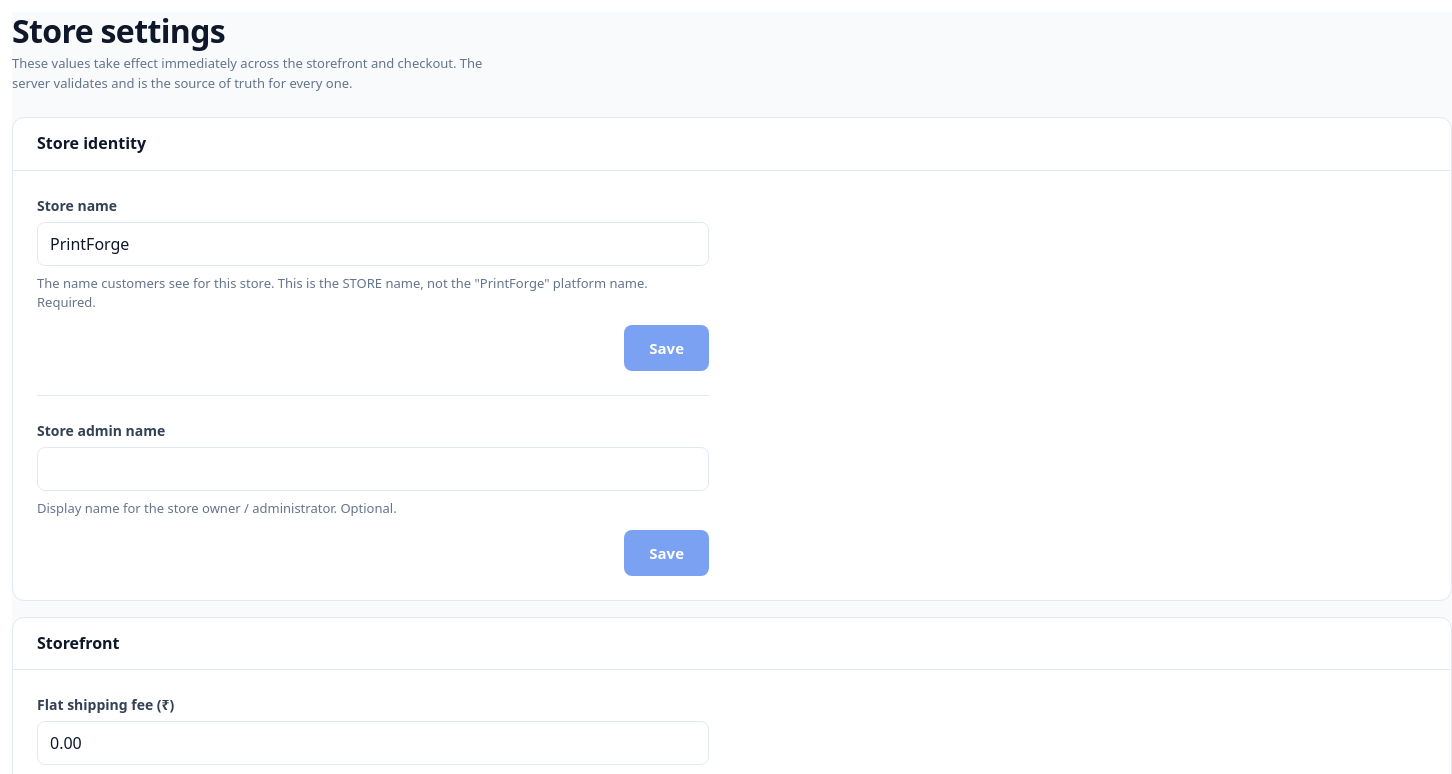
AdminSettingsPage › edits and saves the store name, showing a real "Saved" confirmation
Replace the text in the field labelled "Store name" with "Atharva Prints" at (373,244), box [37, 222, 709, 266]
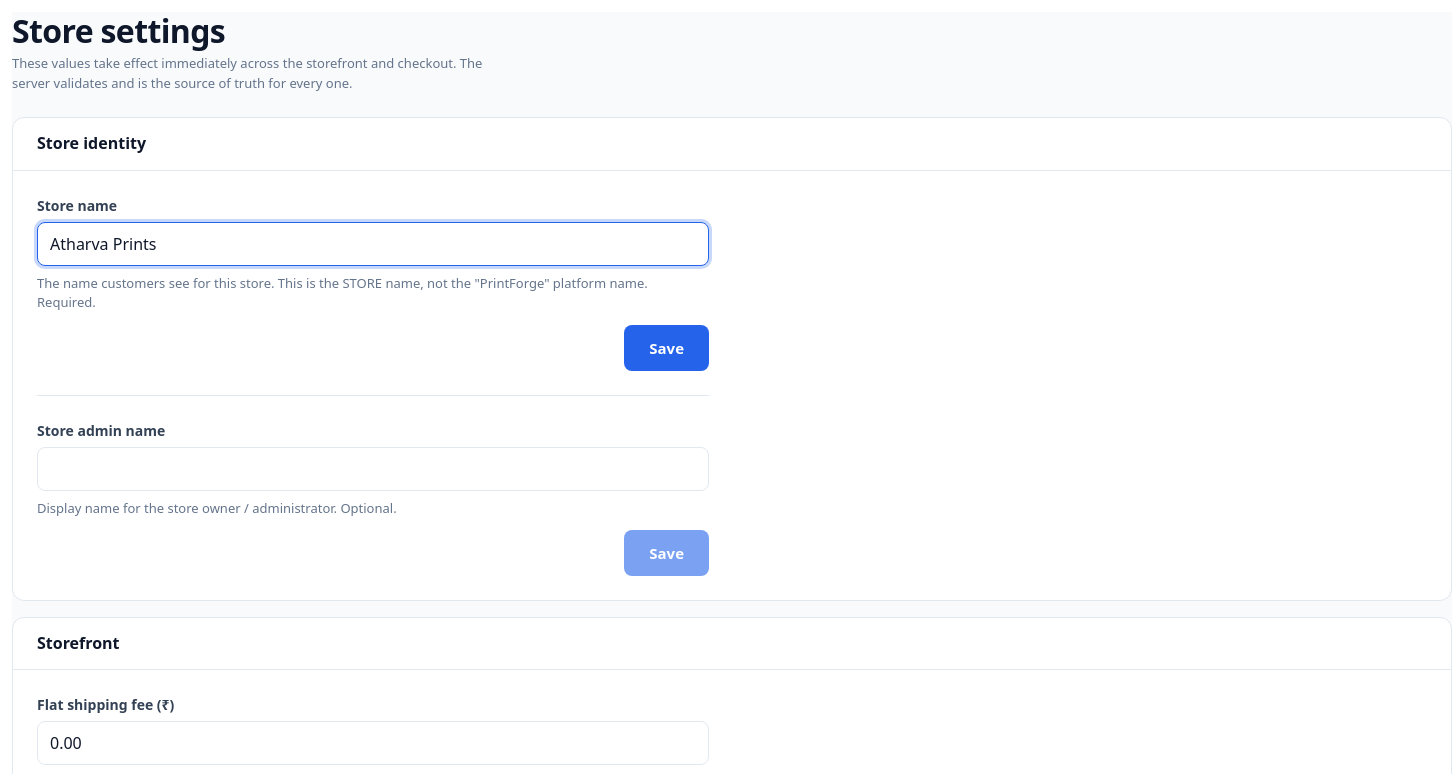
Click the 1st button "Save" at (667,348), box [624, 325, 709, 371]
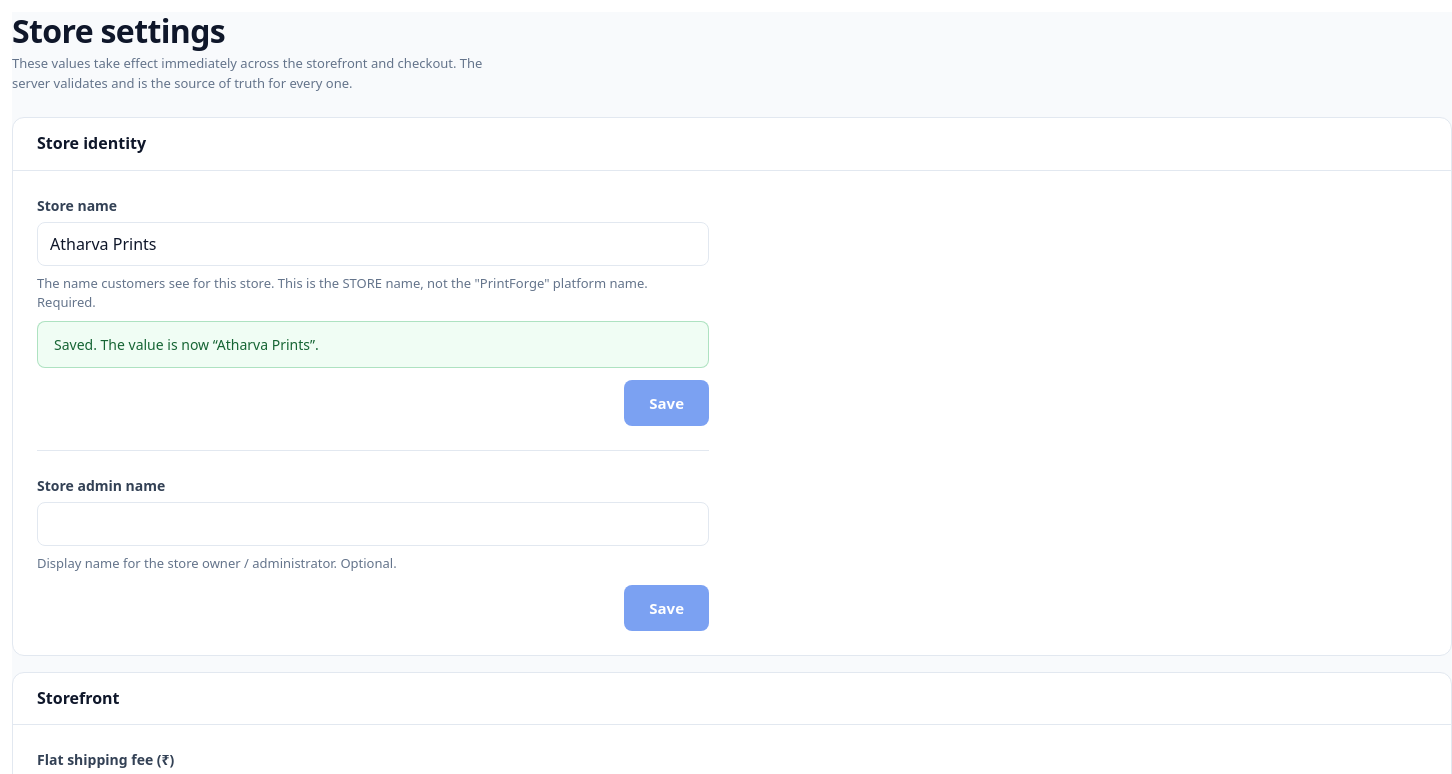
Expected: the text "Saved. The value is now “Atharva Prints”." is shown, [37, 321, 709, 368]
